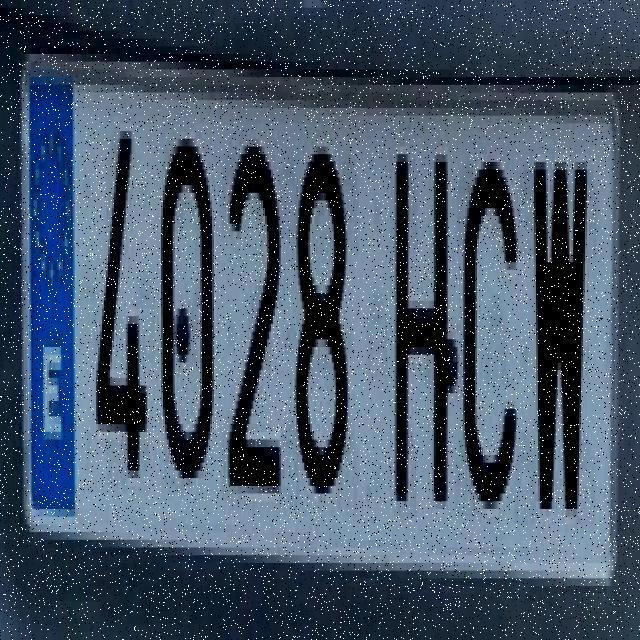LicensePlate: (11, 8, 639, 619)
